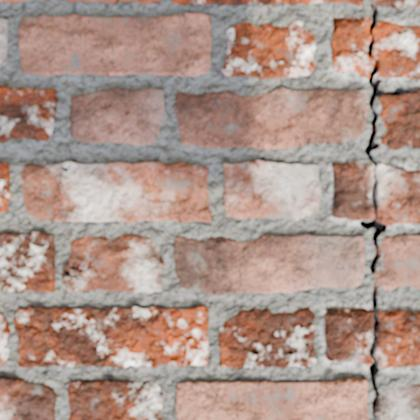brick: (18, 13, 211, 75), (14, 306, 208, 367), (175, 88, 367, 149), (22, 162, 210, 221), (174, 235, 364, 293), (176, 378, 367, 419), (218, 308, 316, 368), (63, 234, 163, 291), (224, 161, 319, 218), (70, 88, 163, 144), (223, 21, 314, 78), (68, 380, 162, 419), (0, 232, 54, 291), (0, 86, 56, 141), (0, 377, 55, 419), (376, 236, 419, 289), (379, 93, 419, 148), (375, 385, 419, 419), (173, 0, 362, 4), (0, 163, 11, 211), (0, 312, 9, 364), (373, 0, 419, 8), (0, 19, 7, 63), (67, 0, 159, 3), (0, 0, 25, 2)
broken_brick: (324, 308, 372, 366), (373, 20, 419, 79), (377, 163, 419, 226), (331, 16, 372, 78), (332, 160, 373, 221), (377, 310, 419, 368)
crack: (359, 2, 419, 417), (62, 253, 98, 281), (56, 163, 69, 172), (324, 345, 327, 357)
